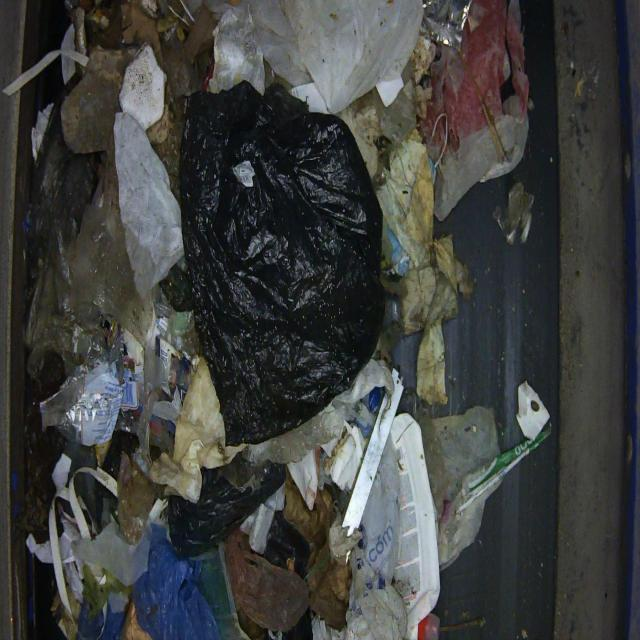trashbin: (176, 78, 386, 446)
